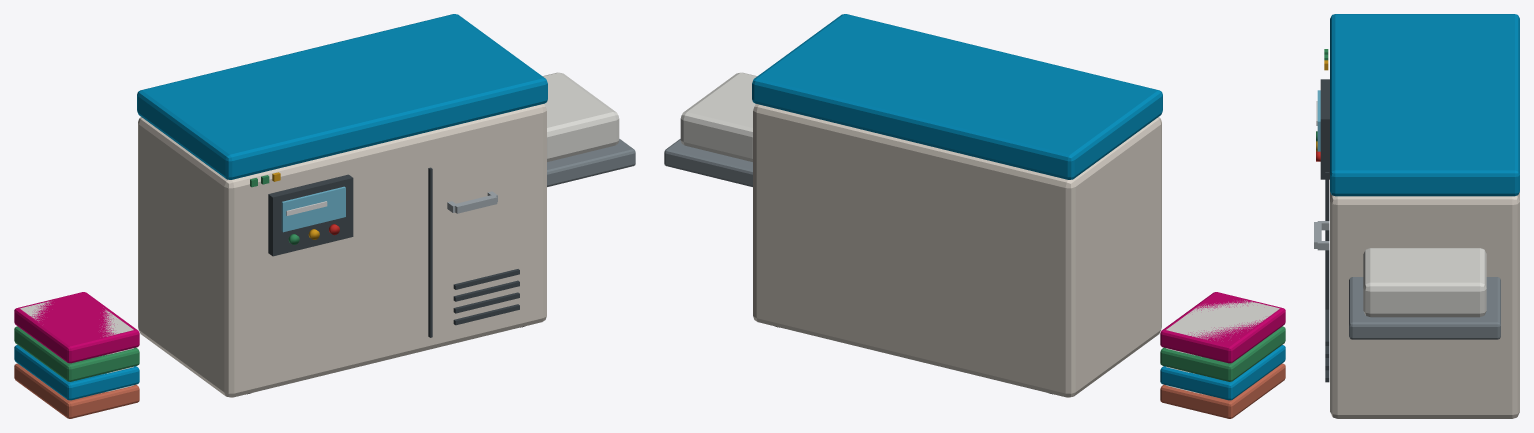
The model's file is m_digital.glb.
The picture shows the model from 3 angles, left to right: view 1: azimuth 30°, elevation 25°; view 2: azimuth 150°, elevation 25°; view 3: azimuth 270°, elevation 25°; orthographic projection. The views are drawn at different scales.
Parts seen in each view (by area): view 1: m_digital; view 2: m_digital; view 3: m_digital.
Part boxes in pixels (x1=…): m_digital: x1=14, y1=14, x2=635, y2=418; m_digital: x1=664, y1=14, x2=1285, y2=418; m_digital: x1=1314, y1=14, x2=1519, y2=418.
Bounding box in the file's own units: 0.695 × 0.29 × 0.217.
